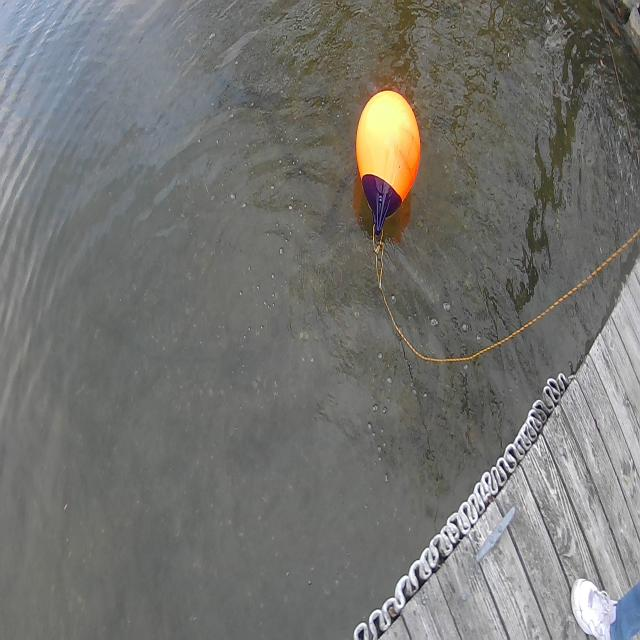Buoy: (350, 82, 424, 244)
